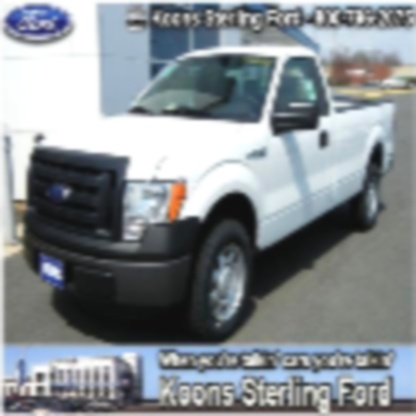Vehicle: (21, 44, 396, 344)
